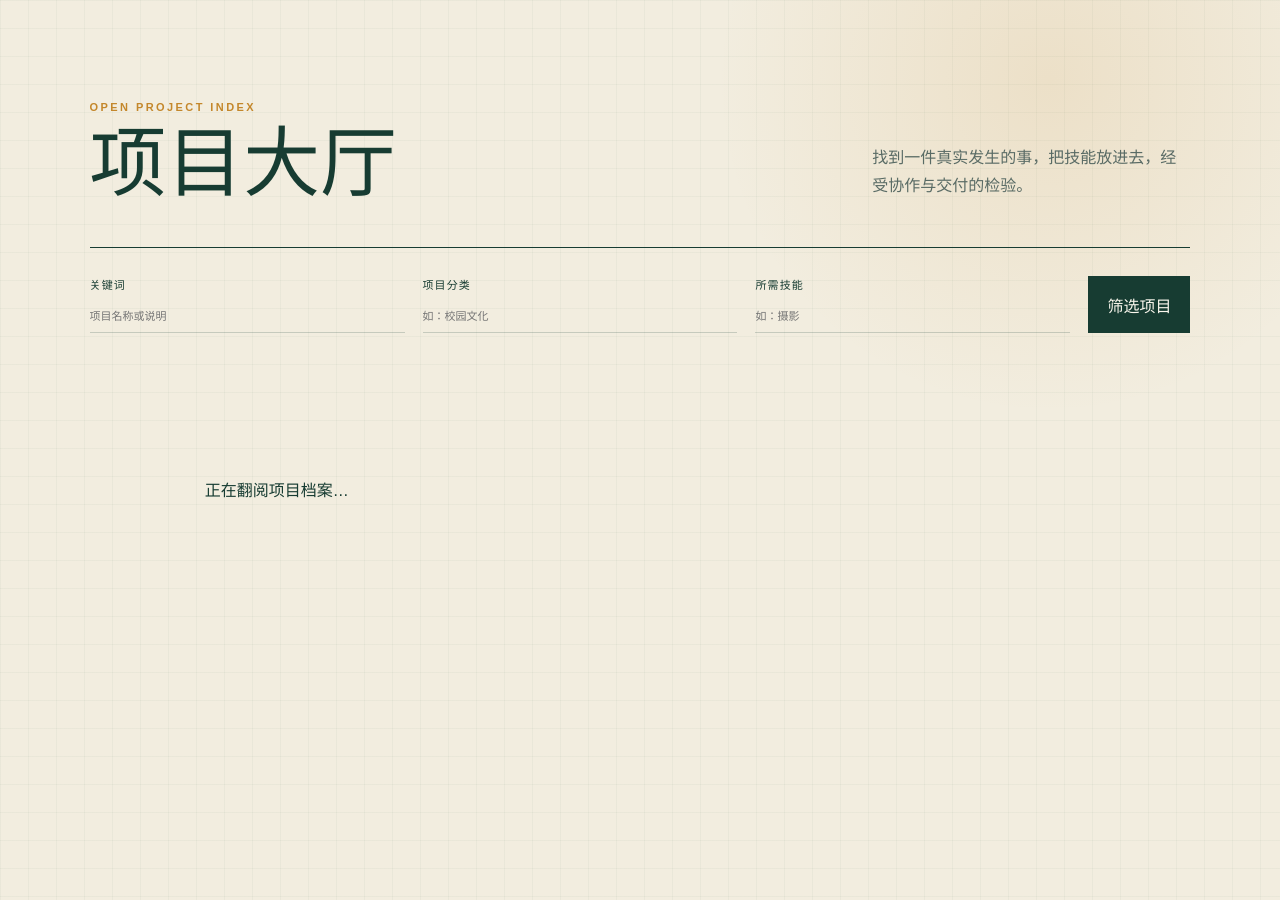
sends keyword category and skill filters as query parameters
Type "毕业季" into the field labelled "关键词" at x=247, y=317, box [90, 300, 404, 333]
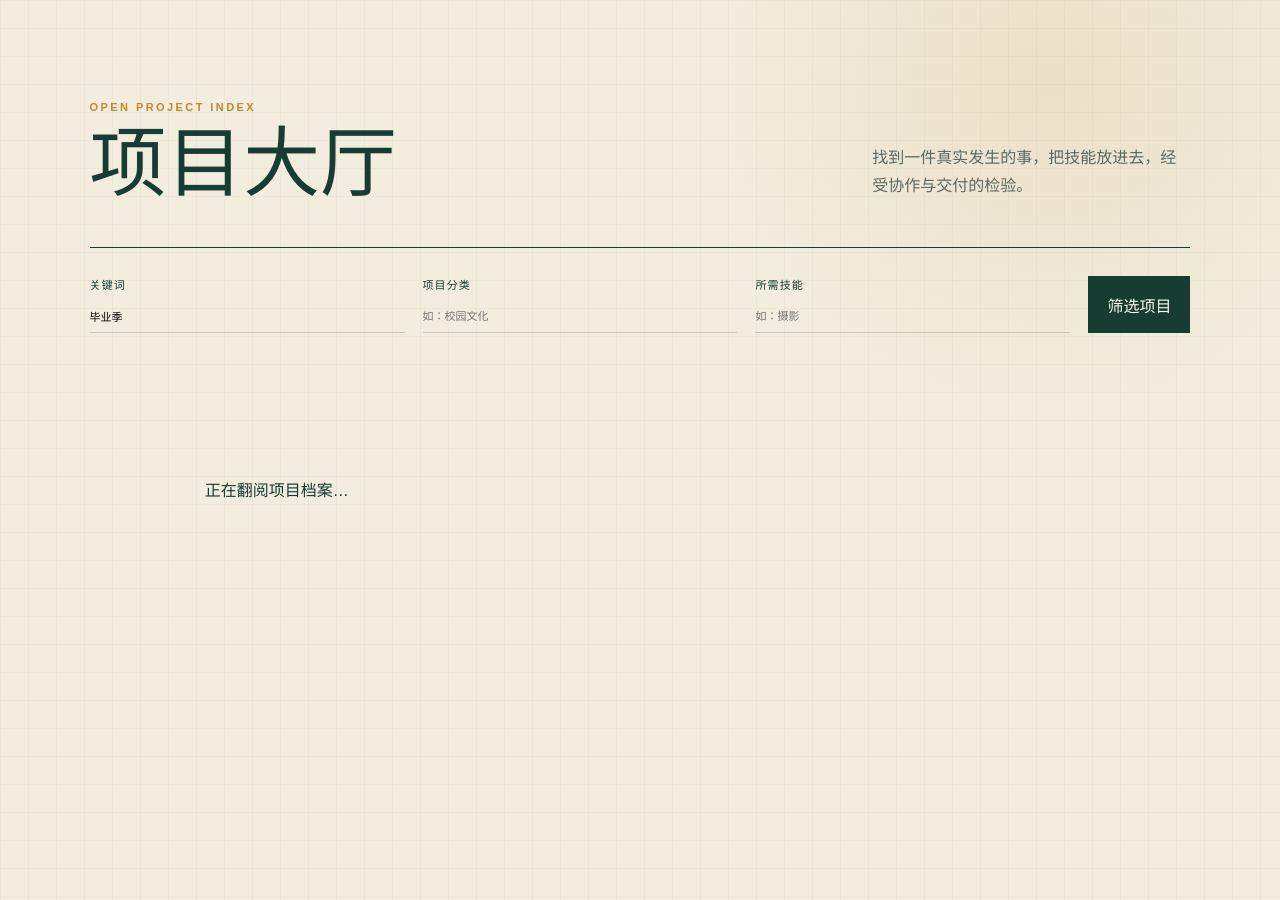
Type "校园文化" into the field labelled "项目分类" at x=580, y=317, box [422, 300, 737, 333]
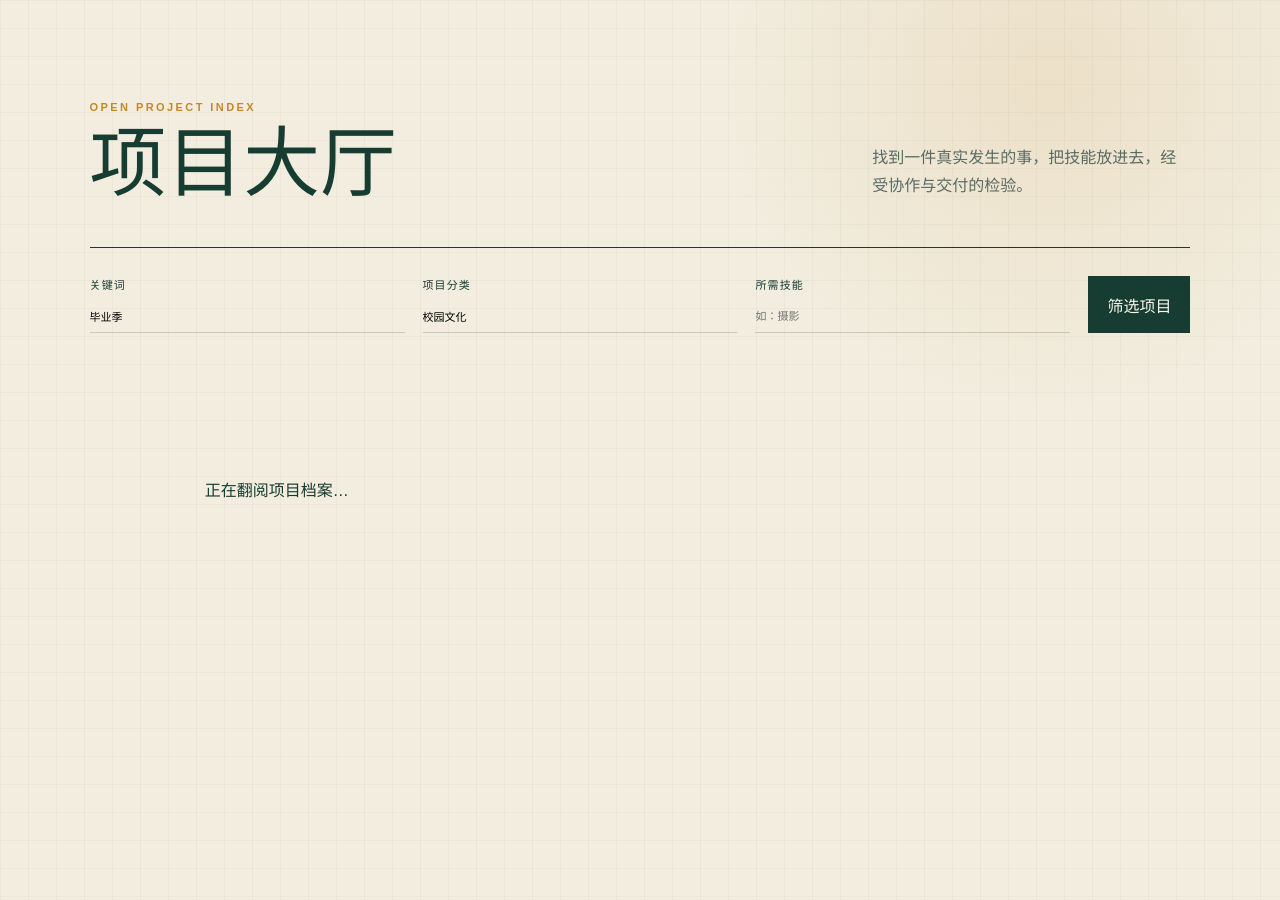
Type "摄影" into the field labelled "所需技能" at x=913, y=317, box [756, 300, 1070, 333]
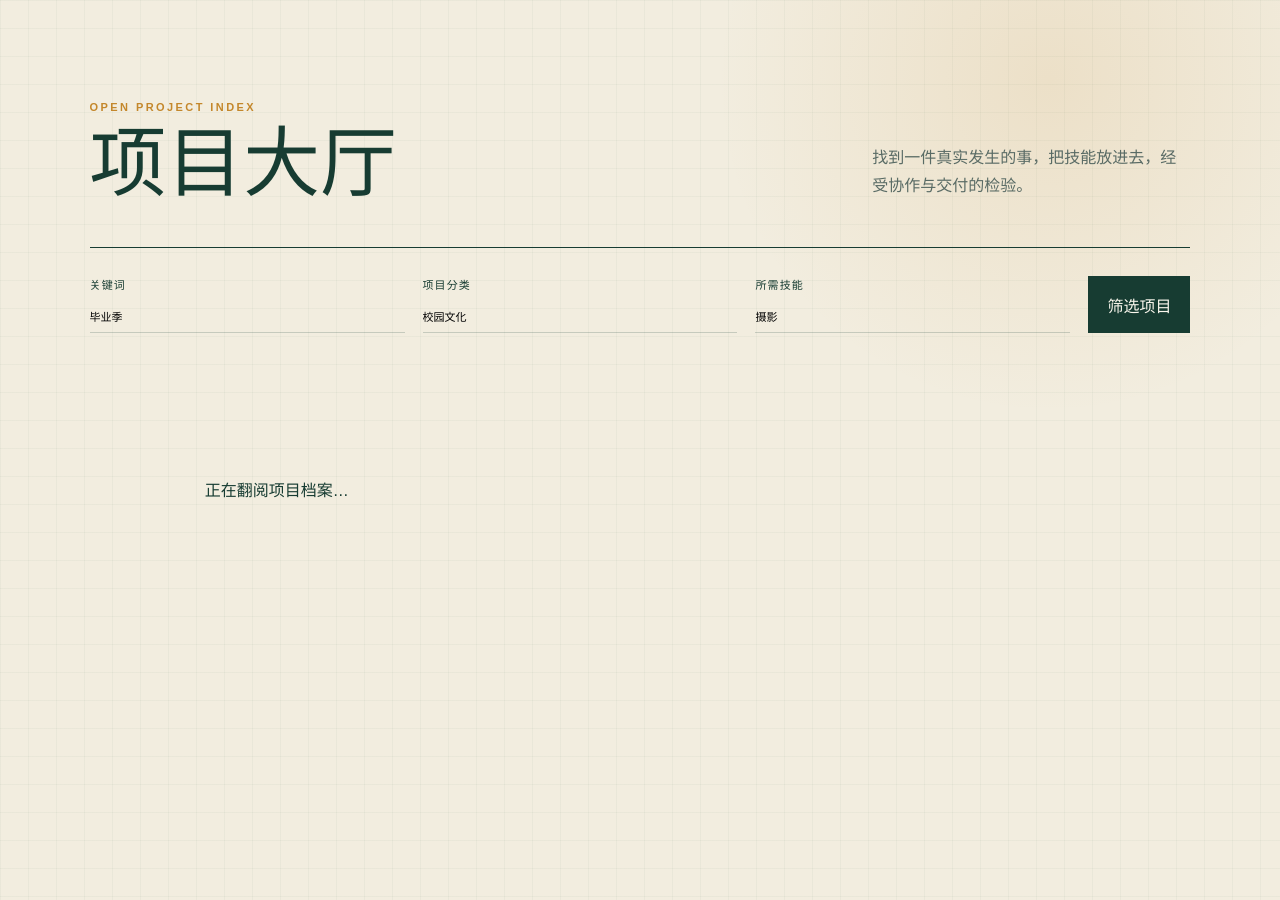
Click the button "筛选项目" at x=1139, y=305, box [1088, 276, 1190, 333]
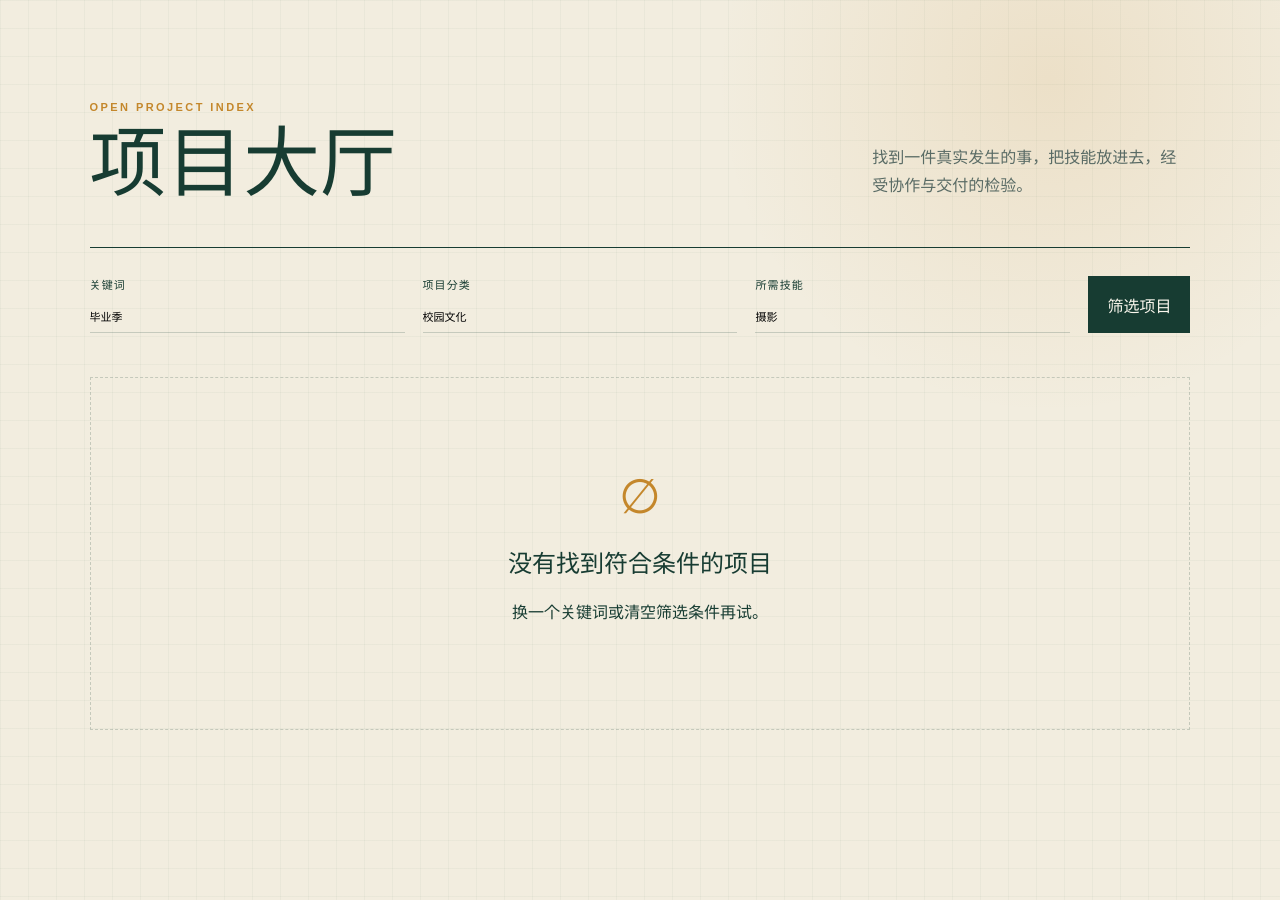
Check: the heading "没有找到符合条件的项目" is shown, box [508, 550, 772, 577]
